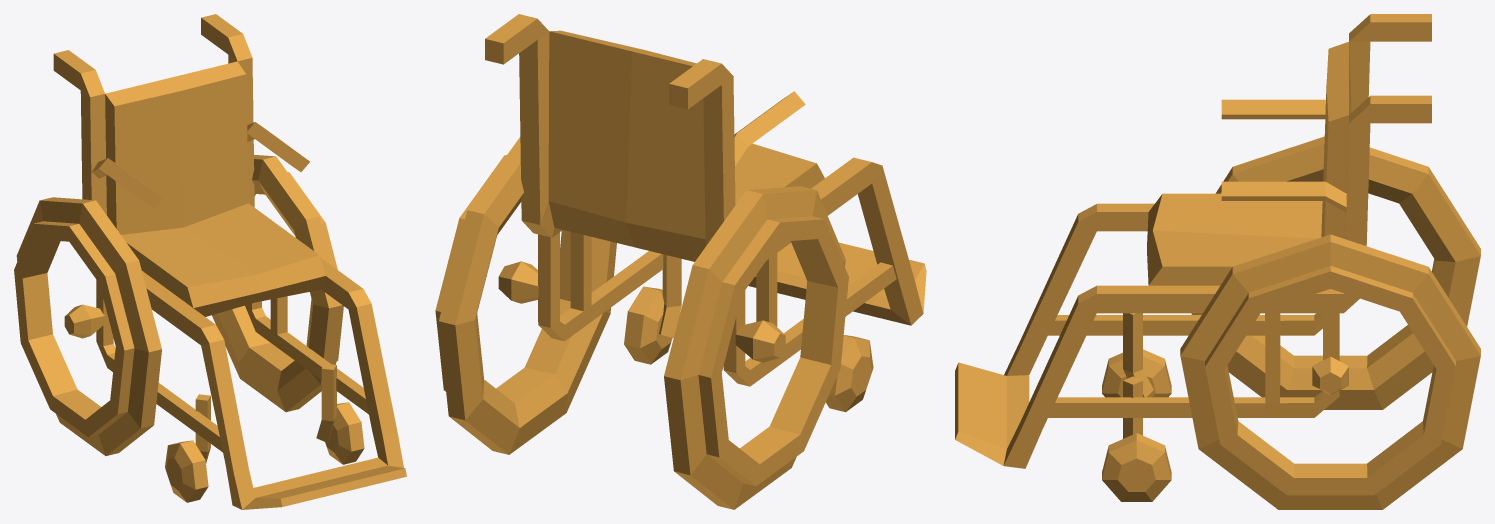
File: vehicles-wheelchair.glb
3 renders of one model, left to right at view 1: azimuth 30°, elevation 25°; view 2: azimuth 150°, elevation 25°; view 3: azimuth 270°, elevation 25°, orthographic. The views are drawn at different scales.
Parts seen in each view (by area): view 1: wheelchair; view 2: wheelchair; view 3: wheelchair.
Part boxes in pixels (<box>): wheelchair: <box>14,14,406,509</box>; wheelchair: <box>435,14,926,509</box>; wheelchair: <box>955,14,1480,509</box>.
Bounding box in the file's own units: 0.704 × 1.07 × 1.28.
